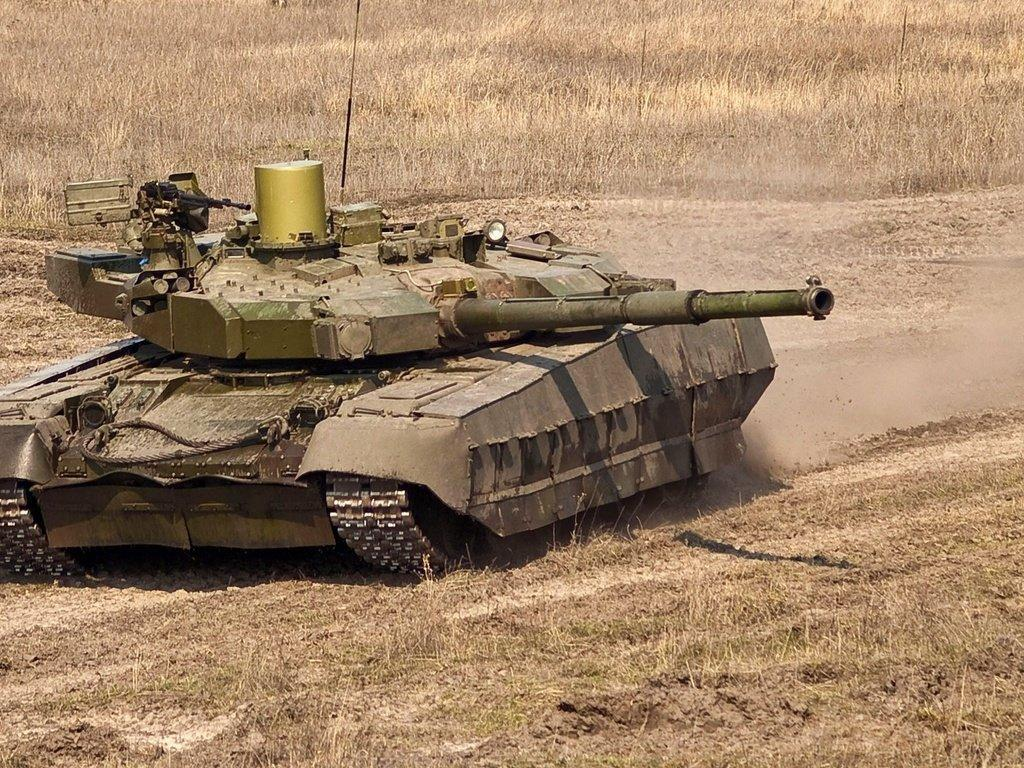tank: (0, 147, 836, 584)
